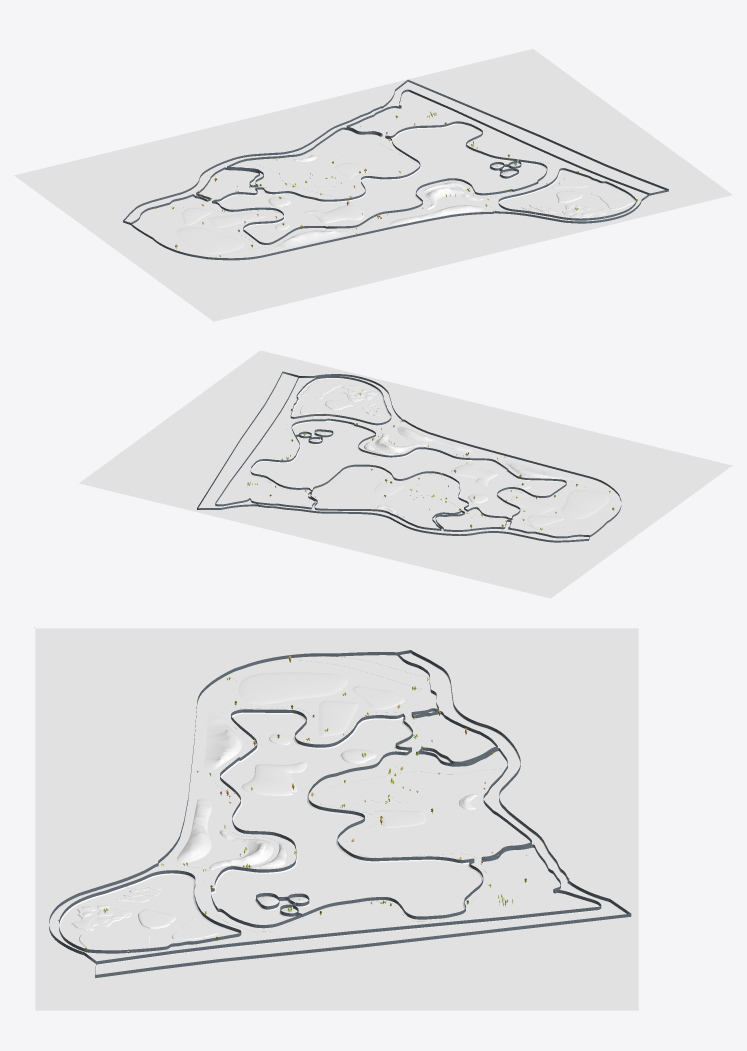
The picture shows the model from 3 angles, top to bottom: view 1: azimuth 30°, elevation 25°; view 2: azimuth 150°, elevation 25°; view 3: azimuth 270°, elevation 25°; orthographic projection. The views are drawn at different scales.
Visible parts, largest first — view 1: Group113, Group22, Model, Group33, Group108, Group106, Group111, Group28, Group76, Group52, Group78, Group98 (+13 smaller); view 2: Group113, Group22, Model, Group33, Group52, Group106, Group108, Group111, Group28, Group78, Group76, Group84 (+15 smaller); view 3: Group113, Group22, Model, Group33, Group108, Group52, Group28, Group106, Group78, Group111, Group76, Group98 (+24 smaller).
Boxes of the visible parts, x1,y1,x2,y2 form: Group113: (14,49,732,321); Group22: (218,124,546,242); Model: (132,107,639,252); Group33: (125,82,664,222); Group108: (123,80,666,224); Group106: (123,79,668,260); Group111: (212,121,547,244); Group28: (499,171,635,218); Group76: (165,205,278,257); Group52: (148,121,553,257); Group78: (217,188,493,258); Group98: (151,161,289,248); Group113: (79,350,732,598); Group22: (251,421,565,517); Model: (234,385,602,536); Group33: (199,374,589,540); Group52: (246,418,621,536); Group106: (197,371,621,542); Group108: (198,372,589,542); Group111: (250,418,566,519); Group28: (292,378,390,423); Group78: (373,422,612,493); Group76: (501,485,618,531); Group84: (216,441,296,504); Group113: (35,628,638,1010); Group22: (212,714,481,924); Model: (73,655,551,954); Group33: (95,653,625,974); Group108: (95,650,630,977); Group52: (158,656,504,932); Group28: (60,874,236,948); Group106: (49,650,631,977); Group78: (161,678,275,870); Group111: (211,709,483,928); Group76: (231,662,419,744); Group98: (292,658,507,773).
Bounding box in the file's own units: 12.93 × 0.1415 × 9.54.
